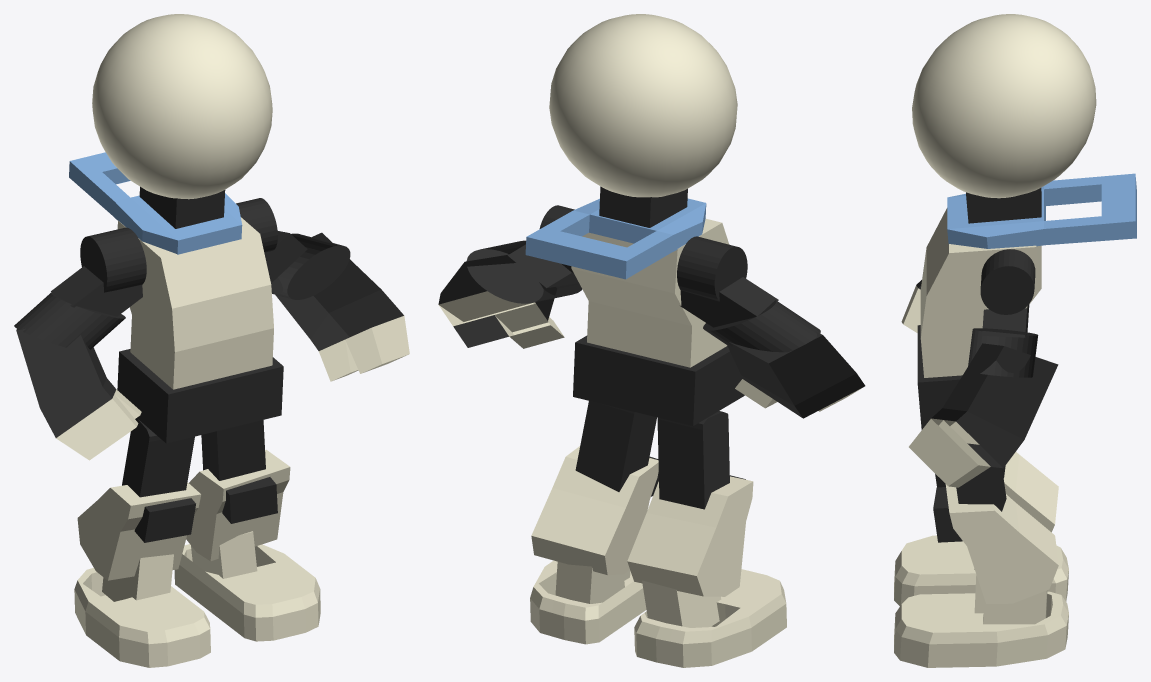
Rendered from Robi.glb.
3 views of the same model, side by side, from view 1: azimuth 30°, elevation 25°; view 2: azimuth 150°, elevation 25°; view 3: azimuth 270°, elevation 25° (orthographic). The views are drawn at different scales.
Parts seen in each view (by area): view 1: Sphere, Cube.007, Cube.006, Cube.004, Cube.001, Cube.008, Cube.011, Cube.013, Cube, Cylinder.002, Cube.012, Cube.003 (+9 smaller); view 2: Sphere, Cube.007, Cube.008, Cube.009, Cube.006, Cube.001, Cube.011, Cube.013, Cylinder.002, Cube, Cube.004, Cube.003 (+7 smaller); view 3: Sphere, Cube.004, Cube.007, Cube.011, Cube.012, Cube.009, Cube.001, Cube.014, Cylinder.001, Cylinder.003, Cube.008, Cube.003 (+4 smaller).
Part boxes in pixels (box(x1,y1,x2,y2)): Sphere: box(92, 14, 272, 199); Cube.007: box(117, 217, 273, 389); Cube.006: box(117, 349, 283, 443); Cube.004: box(174, 544, 320, 641); Cube.001: box(74, 567, 210, 667); Cube.008: box(77, 482, 201, 580); Cube.011: box(69, 152, 242, 254); Cube.013: box(16, 328, 116, 437); Cube: box(122, 418, 195, 542); Cylinder.002: box(14, 266, 142, 349); Cube.012: box(271, 232, 403, 350); Cube.003: box(201, 420, 277, 523); Sphere: box(549, 14, 737, 197); Cube.007: box(571, 219, 729, 367); Cube.008: box(627, 476, 753, 596); Cube.009: box(531, 446, 658, 575); Cube.006: box(573, 335, 744, 425); Cube.001: box(634, 569, 786, 667); Cube.011: box(525, 198, 706, 279); Cube.013: box(727, 331, 865, 418); Cylinder.002: box(680, 277, 820, 352); Cube: box(657, 411, 745, 509); Cube.004: box(530, 560, 646, 644); Cube.003: box(575, 401, 658, 496); Sphere: box(912, 14, 1096, 198); Cube.004: box(894, 591, 1068, 667); Cube.007: box(920, 208, 1041, 377); Cube.011: box(947, 173, 1136, 248); Cube.012: box(931, 343, 1058, 468); Cube.009: box(945, 484, 1058, 603); Cube.001: box(894, 535, 1068, 605); Cube.014: box(909, 418, 990, 487); Cylinder.001: box(980, 249, 1035, 314); Cylinder.003: box(968, 304, 1038, 377); Cube.008: box(1003, 452, 1058, 532); Cube.003: box(933, 467, 1006, 542).
Size of the model in its own units: 0.3045 by 0.4451 by 0.1644.
